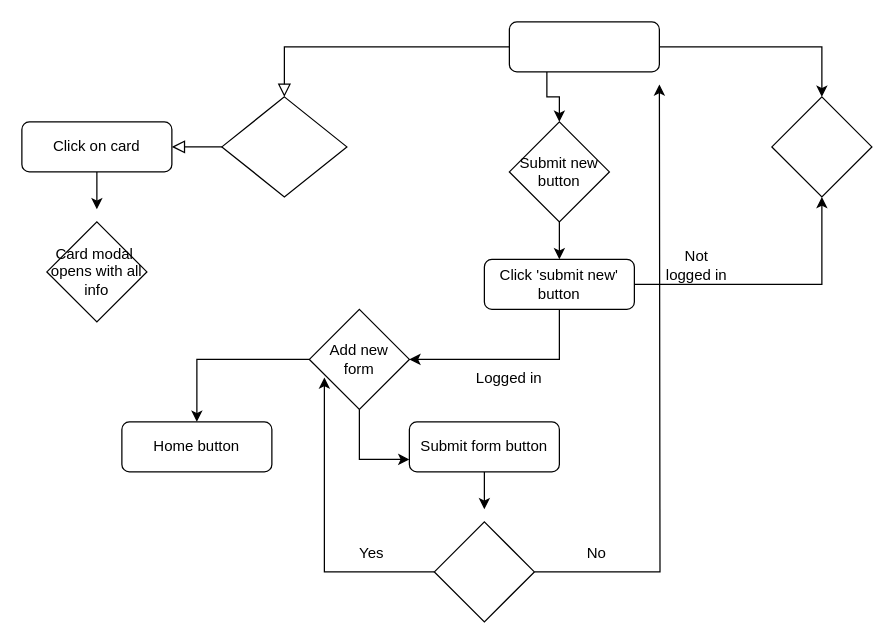
The diagram is 894 pixels wide and 644 high, and some of its shapes have lost their labels. Here are the shapes that lost their labels. From the top down, the box of each, then its label:
(508, 21, 659, 72): Landing page
(221, 96, 347, 197): Card in carousel
(771, 96, 872, 197): Login button
(433, 521, 534, 622): Add another?
